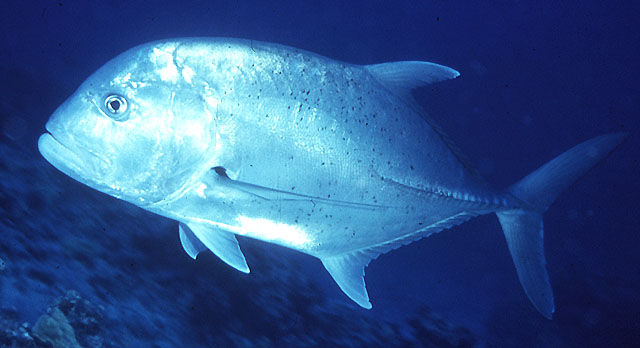fish: (38, 36, 629, 320)
